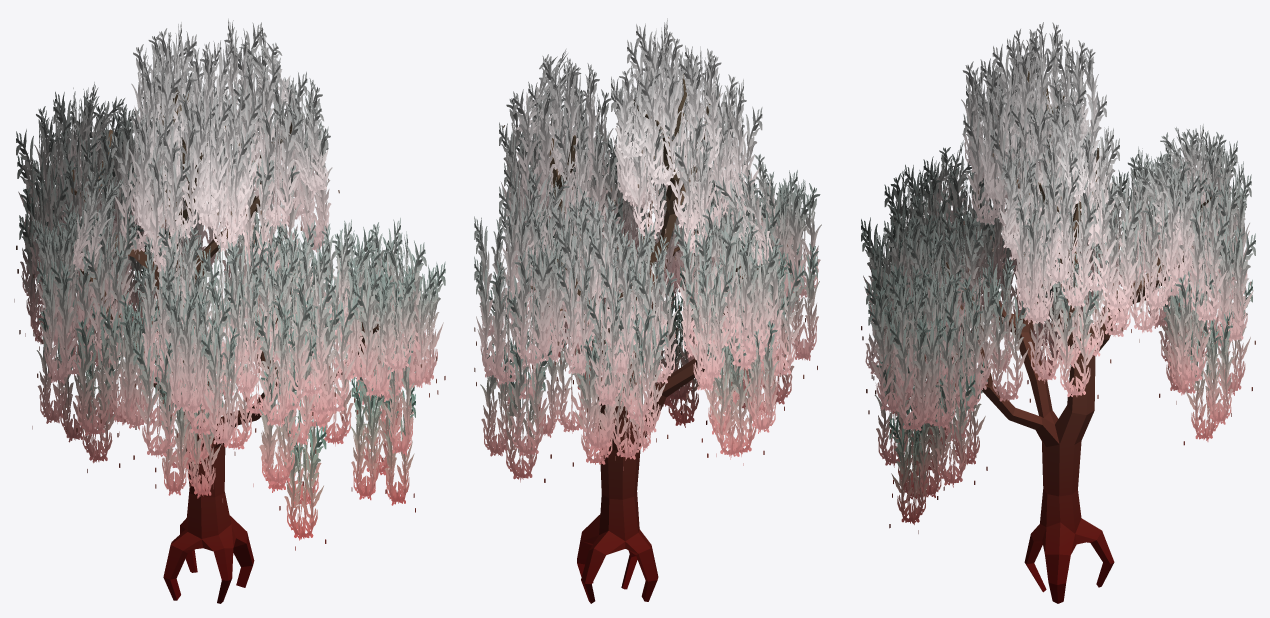
3 views of the same model, side by side, from view 1: azimuth 30°, elevation 25°; view 2: azimuth 150°, elevation 25°; view 3: azimuth 270°, elevation 25° (orthographic). The views are drawn at different scales.
Parts seen in each view (by area): view 1: SM_Tree_Willow_Large_01; view 2: SM_Tree_Willow_Large_01; view 3: SM_Tree_Willow_Large_01.
Part boxes in pixels (x1,y1,x2,y2): SM_Tree_Willow_Large_01: (14, 18, 445, 603); SM_Tree_Willow_Large_01: (474, 18, 821, 603); SM_Tree_Willow_Large_01: (861, 22, 1255, 603).
Size of the model in its own units: 5.8 by 9.62 by 6.35.
Materials: 2 (2 with a texture image).
